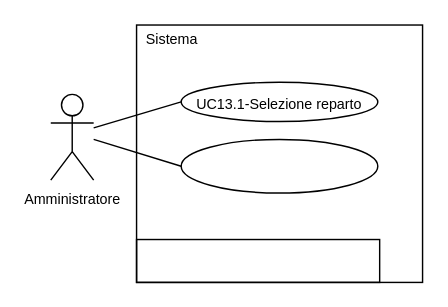
Image size: 448x307. Some labels were removed from this diagram. The centre of each missing label's shape, as x and y in pixels:
"UC13-Aggiunta assegnazione utente Operatore Sanitario - reparto" goes at point (257, 260).
"UC13.2-Selezione utente Operatore Sanitario" goes at point (279, 165).
